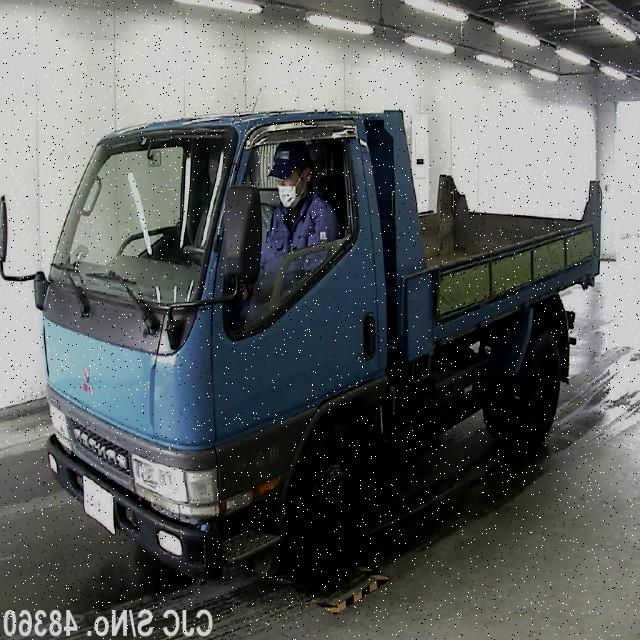truck: (1, 108, 602, 578)
